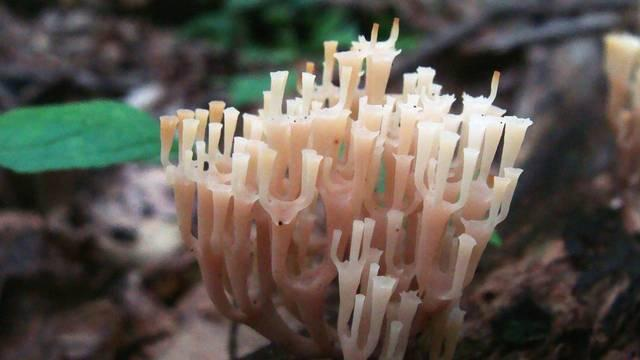edible_mushroom: (157, 16, 534, 358)
